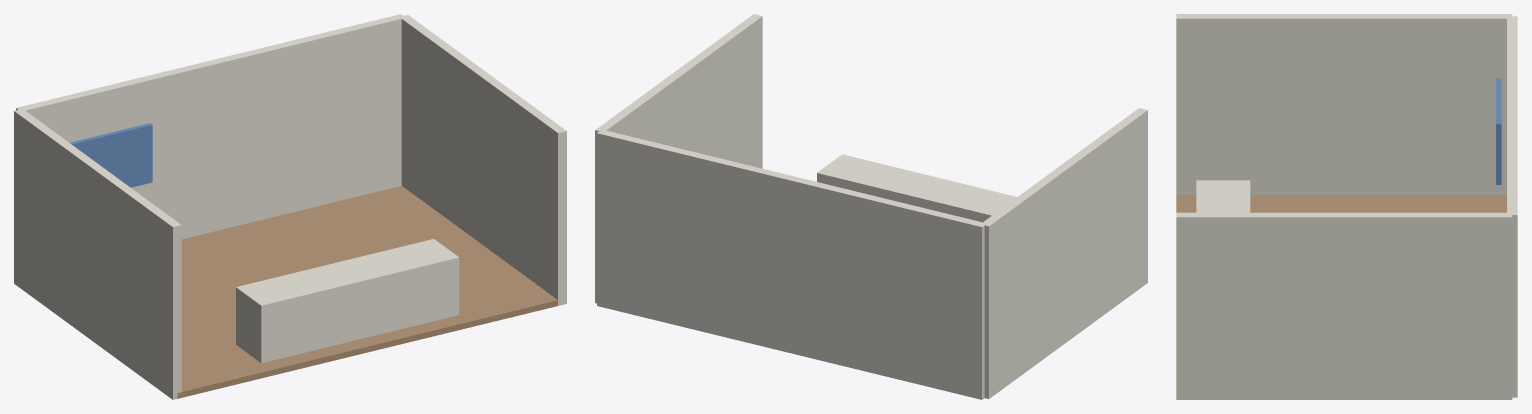
Rendered from police_lobby.glb.
3 renders of one model, left to right at view 1: azimuth 30°, elevation 25°; view 2: azimuth 150°, elevation 25°; view 3: azimuth 270°, elevation 25°, orthographic. The views are drawn at different scales.
Visible parts, largest first — view 1: back, floor, left, right, counter, flag; view 2: back, left, right, counter; view 3: right, left, floor, back, counter, flag.
Part boxes in pixels (<box>): back: <box>16,14,405,239</box>; floor: <box>177,186,557,398</box>; left: <box>14,109,181,399</box>; right: <box>400,15,566,305</box>; counter: <box>236,239,459,363</box>; flag: <box>69,123,152,187</box>; back: <box>597,129,986,399</box>; left: <box>983,108,1147,398</box>; right: <box>595,14,762,303</box>; counter: <box>817,154,1016,222</box>; right: <box>1176,212,1512,399</box>; left: <box>1176,14,1512,194</box>; floor: <box>1176,195,1506,212</box>; back: <box>1507,16,1517,397</box>; counter: <box>1196,180,1250,212</box>; flag: <box>1496,78,1501,184</box>.
Size of the model in its own units: 7.16 by 3 by 5.08.
